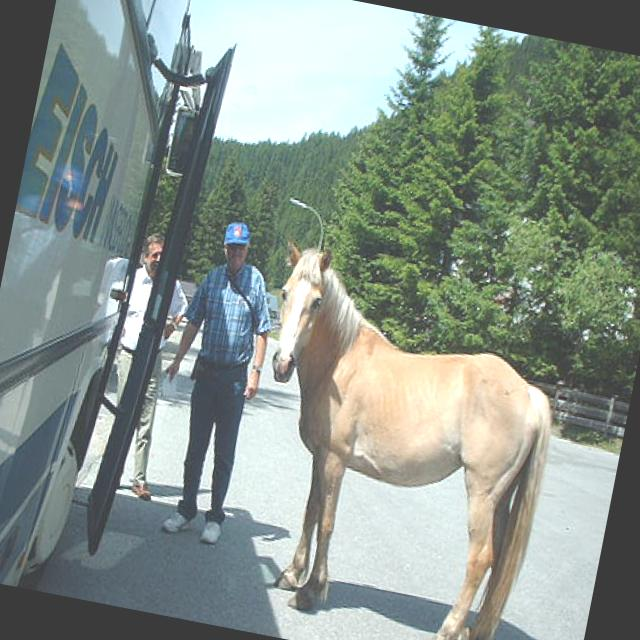Vehicle: (0, 0, 247, 608)
